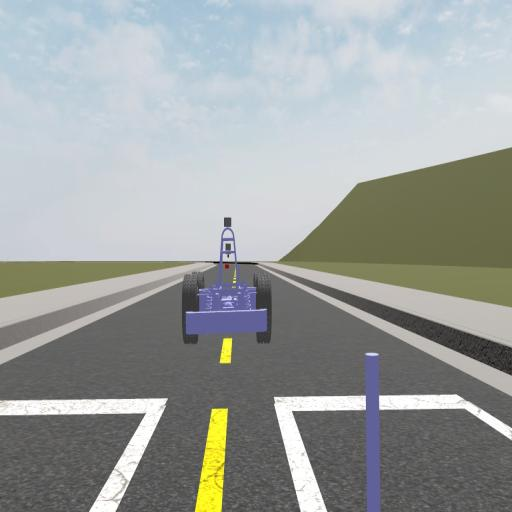ERP-42: (182, 216, 273, 346)
